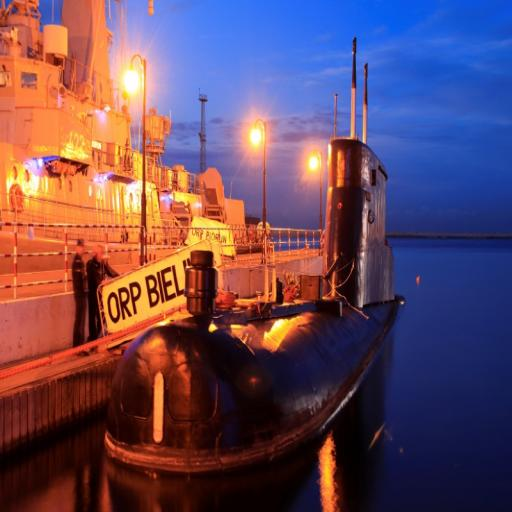submarine: (101, 35, 431, 467)
